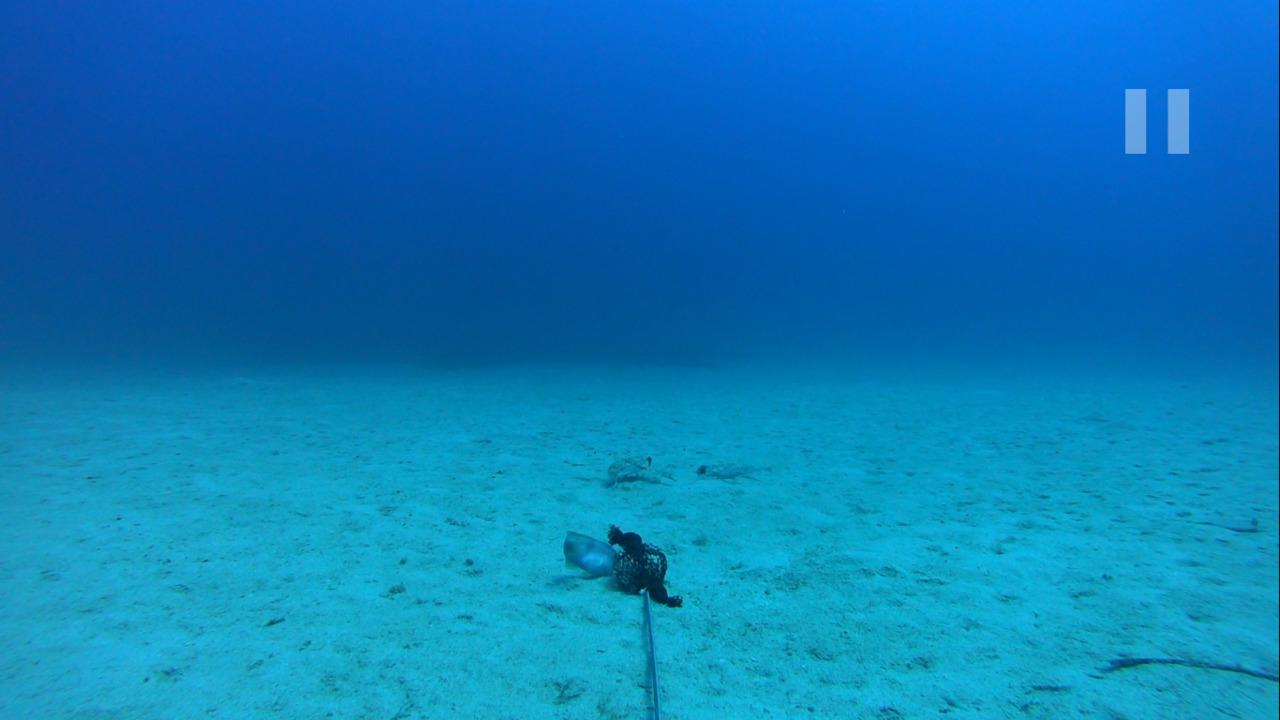bothus: (1178, 511, 1262, 533)
dactylopterus: (594, 446, 679, 494), (684, 458, 772, 490)
raor: (557, 524, 621, 577)
